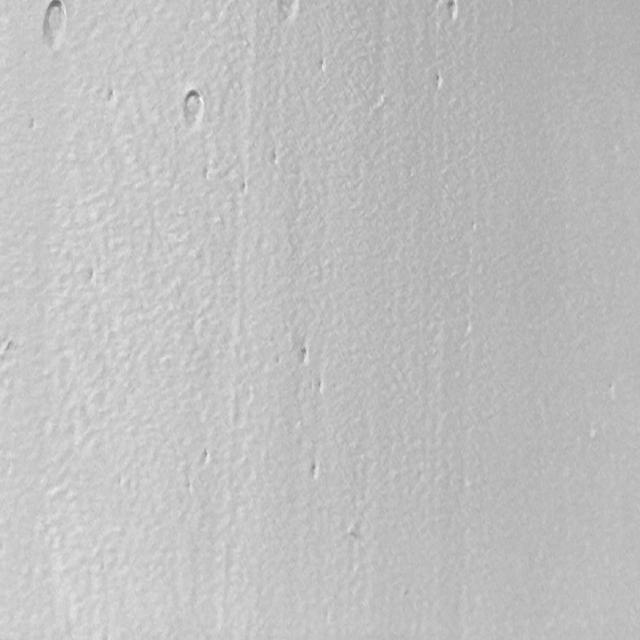pin holes: (38, 0, 72, 51), (178, 88, 206, 129), (344, 517, 367, 547), (278, 0, 304, 24), (442, 0, 463, 23), (295, 344, 312, 368), (306, 464, 323, 485), (103, 87, 118, 107), (198, 447, 212, 467), (433, 72, 445, 94), (4, 336, 16, 358), (315, 57, 327, 73)
